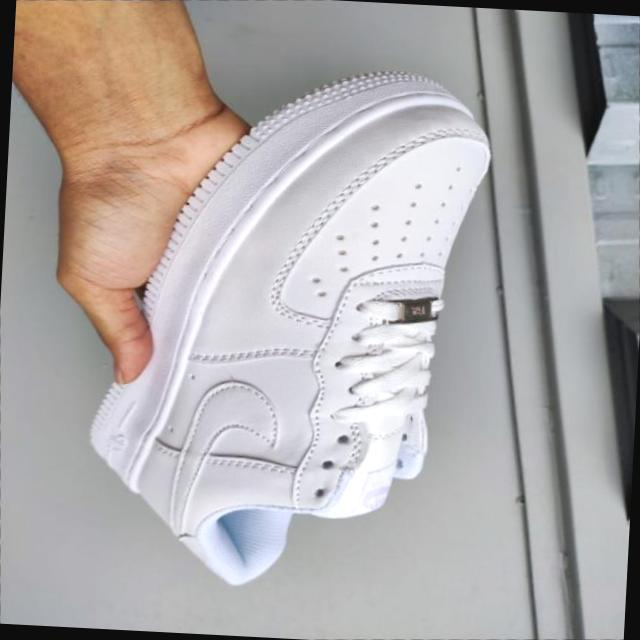nike_fake_airforce: (46, 52, 517, 606)
